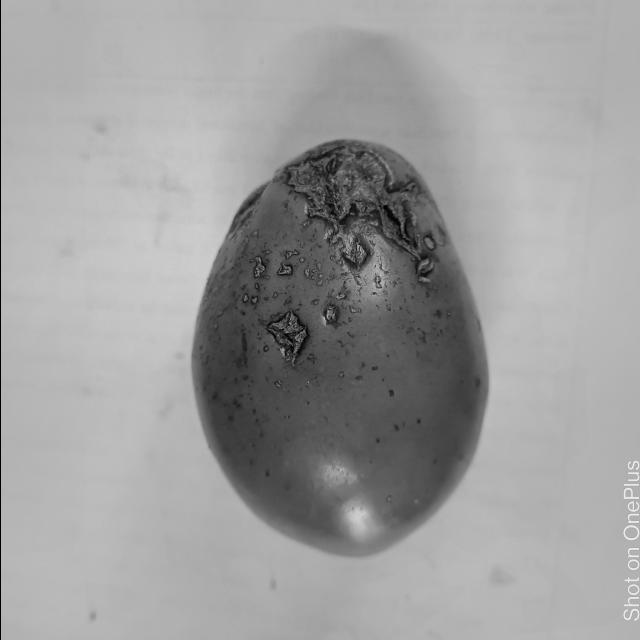Bacterial_Spot: (284, 166, 388, 224), (264, 312, 306, 362), (390, 181, 419, 241), (326, 233, 366, 269), (313, 148, 377, 162), (274, 250, 297, 278), (321, 302, 343, 330), (415, 259, 434, 282), (249, 255, 265, 281), (232, 211, 253, 230), (240, 332, 247, 368), (241, 292, 259, 304)
